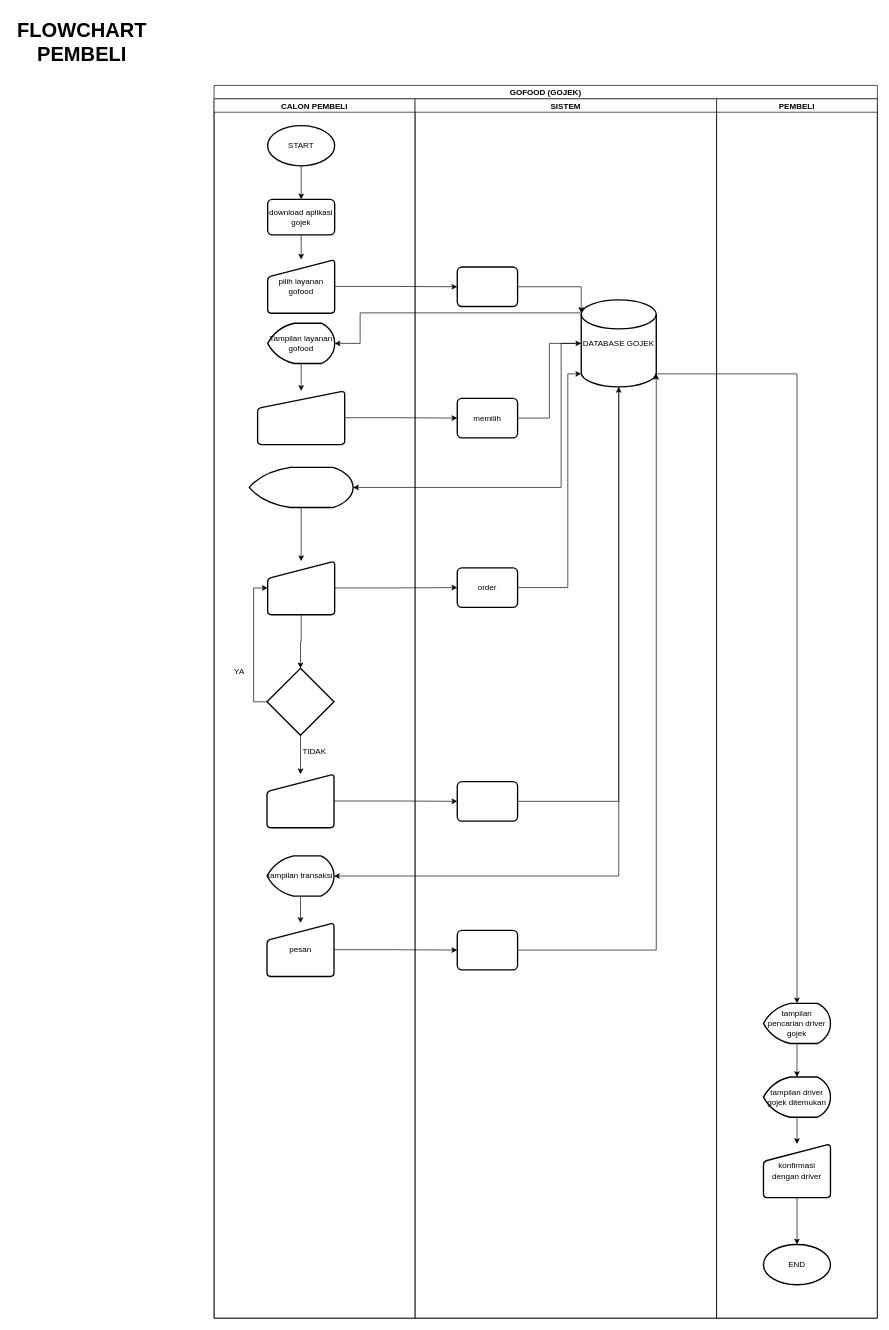
Some shapes in this 889 by 1330 pixel diagram are drawn without their labels. The centre of each missing label's shape, as x and y in pixels:
checkout: the point at 300,800
memesan: the point at 487,949
menampilkan: the point at 487,286
pilih makanan/minuman: the point at 301,587
pilih merchant/toko/restoran: the point at 301,417
tambah?: the point at 300,701
Tampilan menu merchant/toko/restoran: the point at 300,487
transaksi: the point at 487,801
